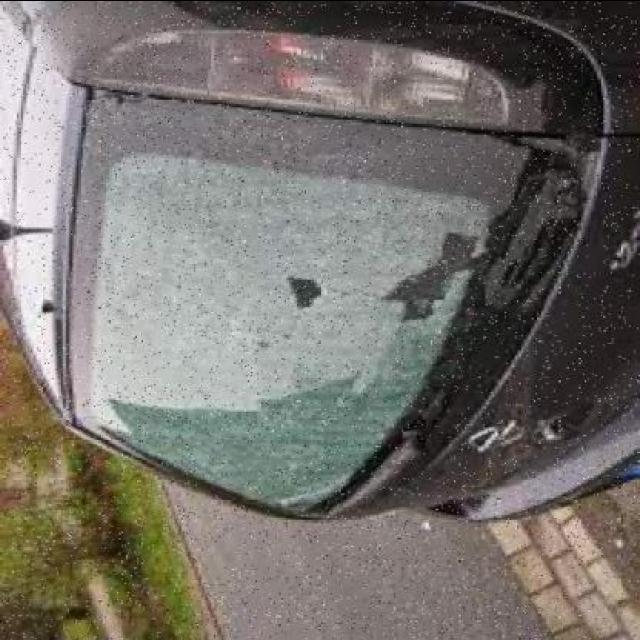Rear-windscreen-Damage: (40, 71, 479, 548)
